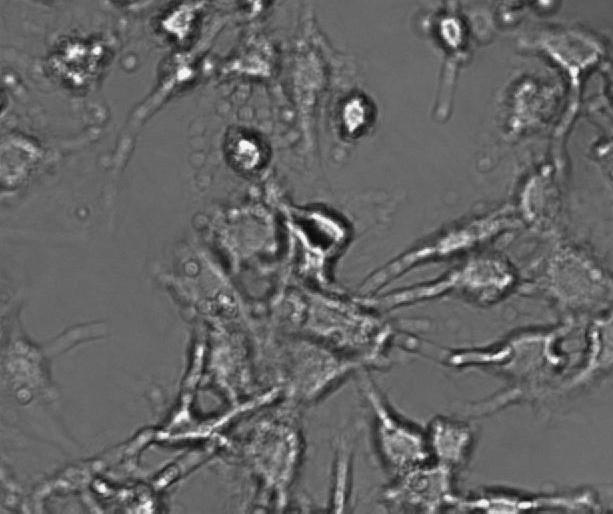Dead: (279, 195, 359, 283), (214, 121, 277, 180), (326, 85, 382, 141), (156, 2, 209, 51), (431, 10, 476, 56)
